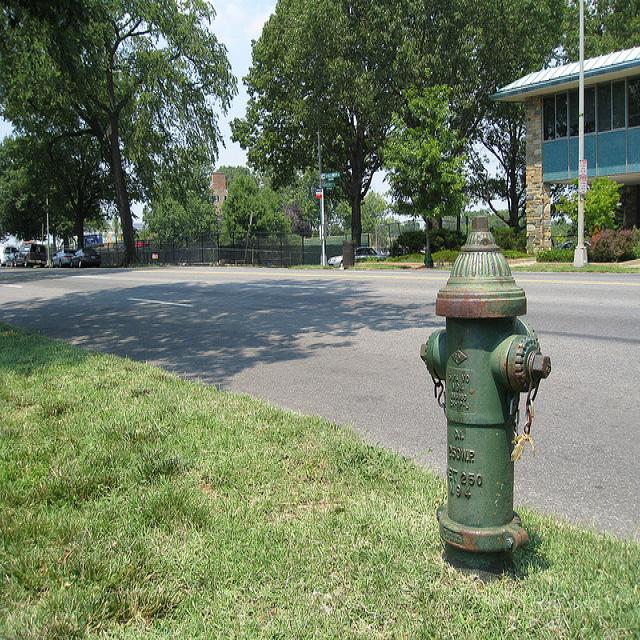Vehicle: (328, 246, 386, 267), (12, 241, 48, 268), (70, 248, 101, 267), (1, 246, 17, 267), (51, 252, 73, 267), (84, 231, 104, 247)
